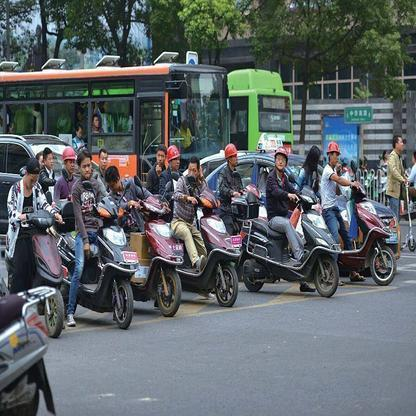target: (59, 150, 134, 331), (5, 159, 66, 338), (172, 156, 238, 308)
